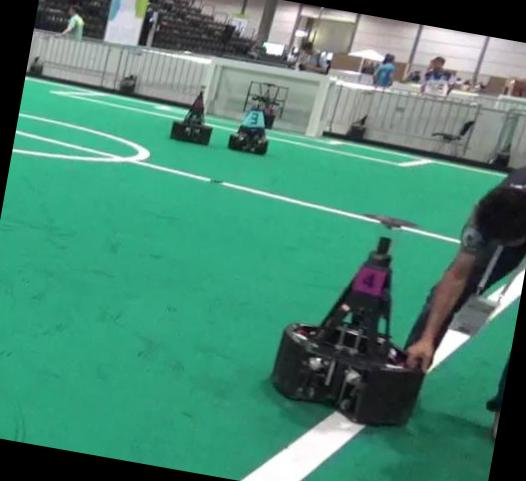goal: (304, 76, 329, 135)
robot: (271, 236, 424, 425), (170, 86, 211, 144), (242, 81, 288, 128), (228, 103, 268, 154)
